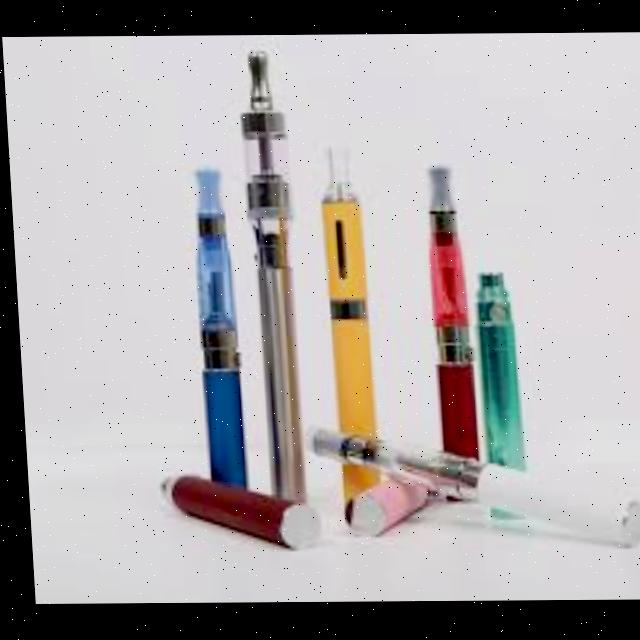vape: (302, 424, 637, 549), (237, 50, 303, 503), (314, 147, 376, 527), (419, 166, 474, 491), (190, 166, 241, 488), (154, 473, 315, 551), (472, 271, 517, 473), (340, 478, 434, 538)
